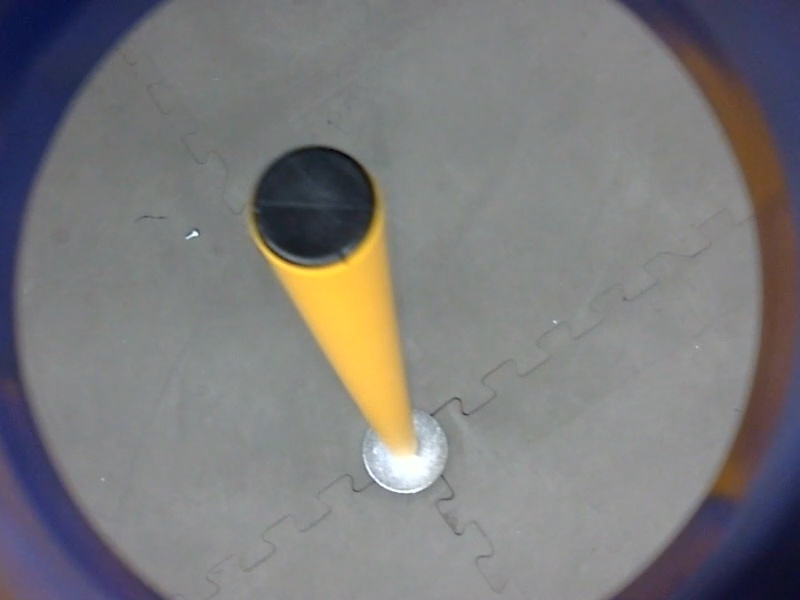tip: (238, 138, 390, 281)
